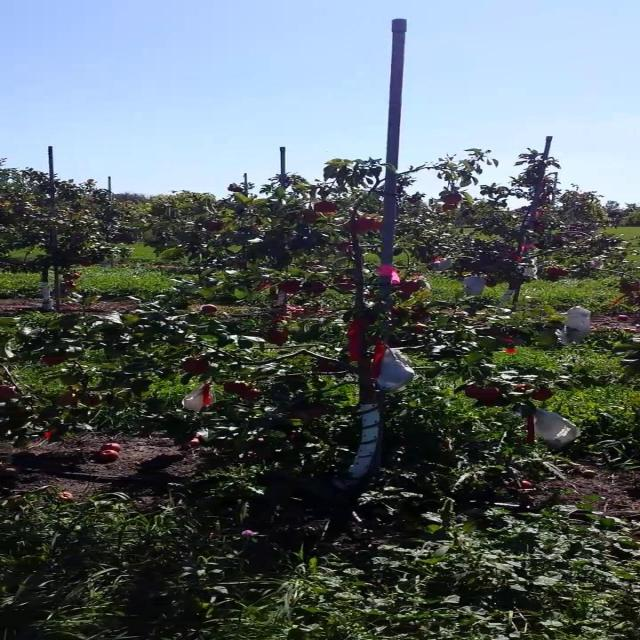apple: (468, 384, 503, 400), (184, 360, 213, 375), (276, 280, 300, 293), (269, 332, 292, 345), (532, 388, 555, 400), (376, 264, 398, 276), (241, 388, 263, 400), (319, 360, 340, 372), (42, 356, 66, 366), (348, 224, 368, 236), (362, 220, 384, 230), (305, 284, 327, 294), (227, 384, 251, 393), (84, 396, 100, 408), (319, 204, 340, 213), (305, 212, 320, 223), (205, 304, 220, 315), (312, 408, 329, 417), (205, 224, 226, 231), (483, 400, 501, 408), (355, 220, 368, 231), (404, 284, 421, 292), (63, 396, 78, 405), (6, 388, 18, 399), (390, 276, 404, 285), (447, 196, 462, 204), (518, 384, 533, 392), (255, 284, 270, 292), (412, 328, 427, 335), (627, 284, 639, 292)
